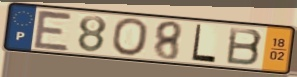8: (151, 20, 185, 61), (75, 13, 109, 54)
B: (225, 25, 265, 67)
E: (31, 8, 75, 53)
L: (189, 23, 218, 65)
O: (110, 17, 151, 57)
